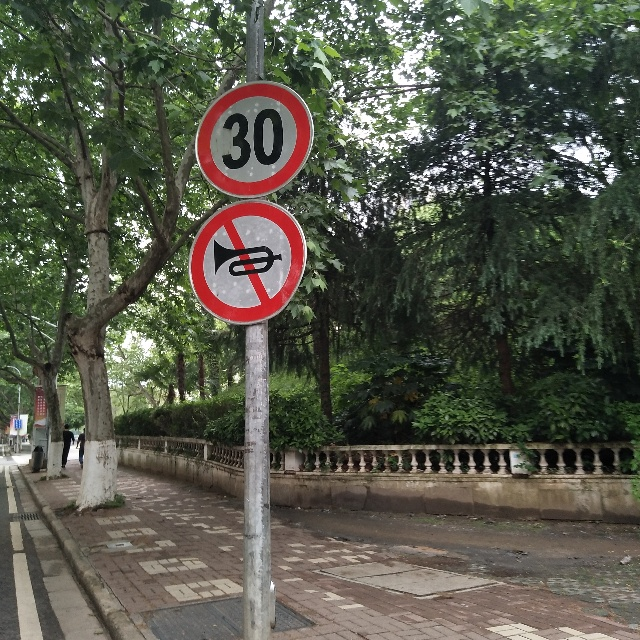nohonk: (187, 196, 314, 328)
